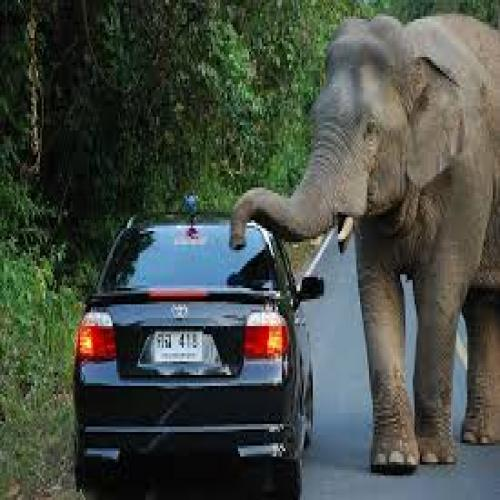asian_elephant-endangered: (231, 13, 500, 472)
